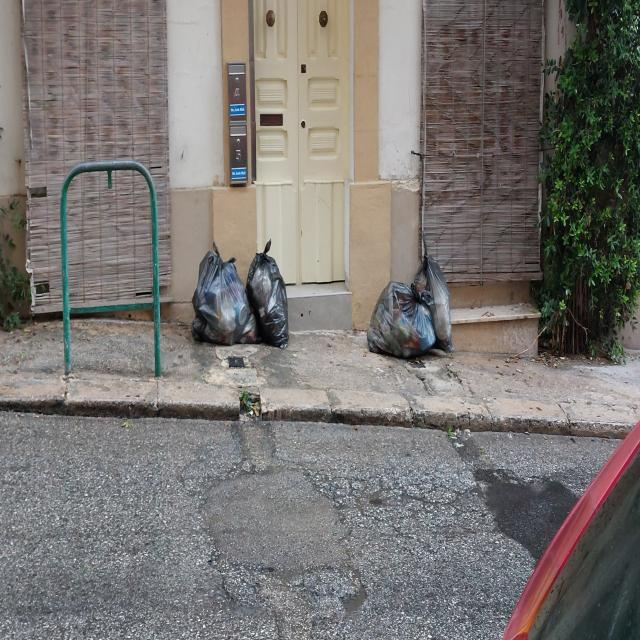Mixed Waste -Black Bag-: (189, 242, 260, 354), (365, 272, 439, 369), (412, 229, 456, 352), (247, 239, 294, 352)
